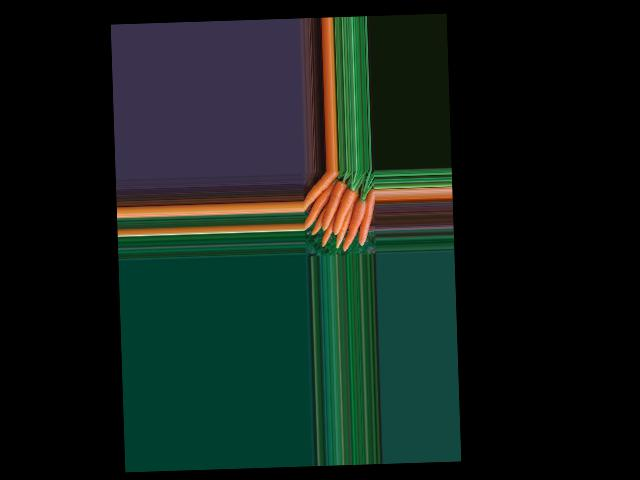carrot: (301, 172, 343, 218)
